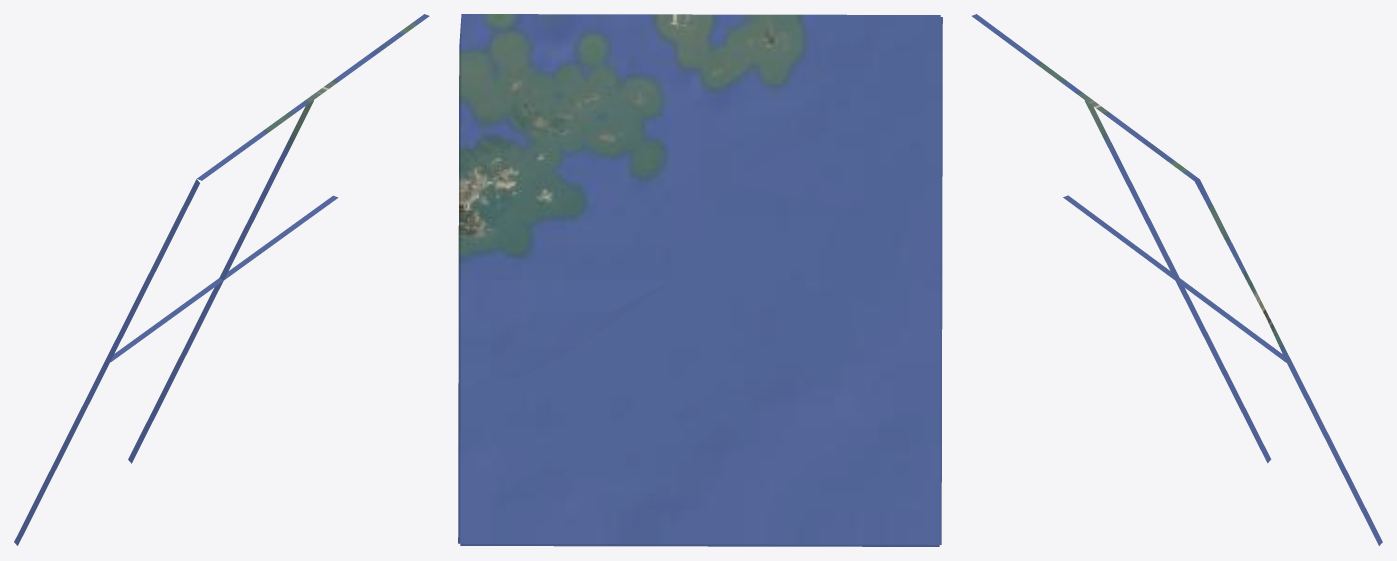
3 renders of one model, left to right at view 1: azimuth 30°, elevation 25°; view 2: azimuth 150°, elevation 25°; view 3: azimuth 270°, elevation 25°, orthographic. The views are drawn at different scales.
Size of the model in its own units: 39412 by 35823 by 32550.
1 material, 1 textured.
